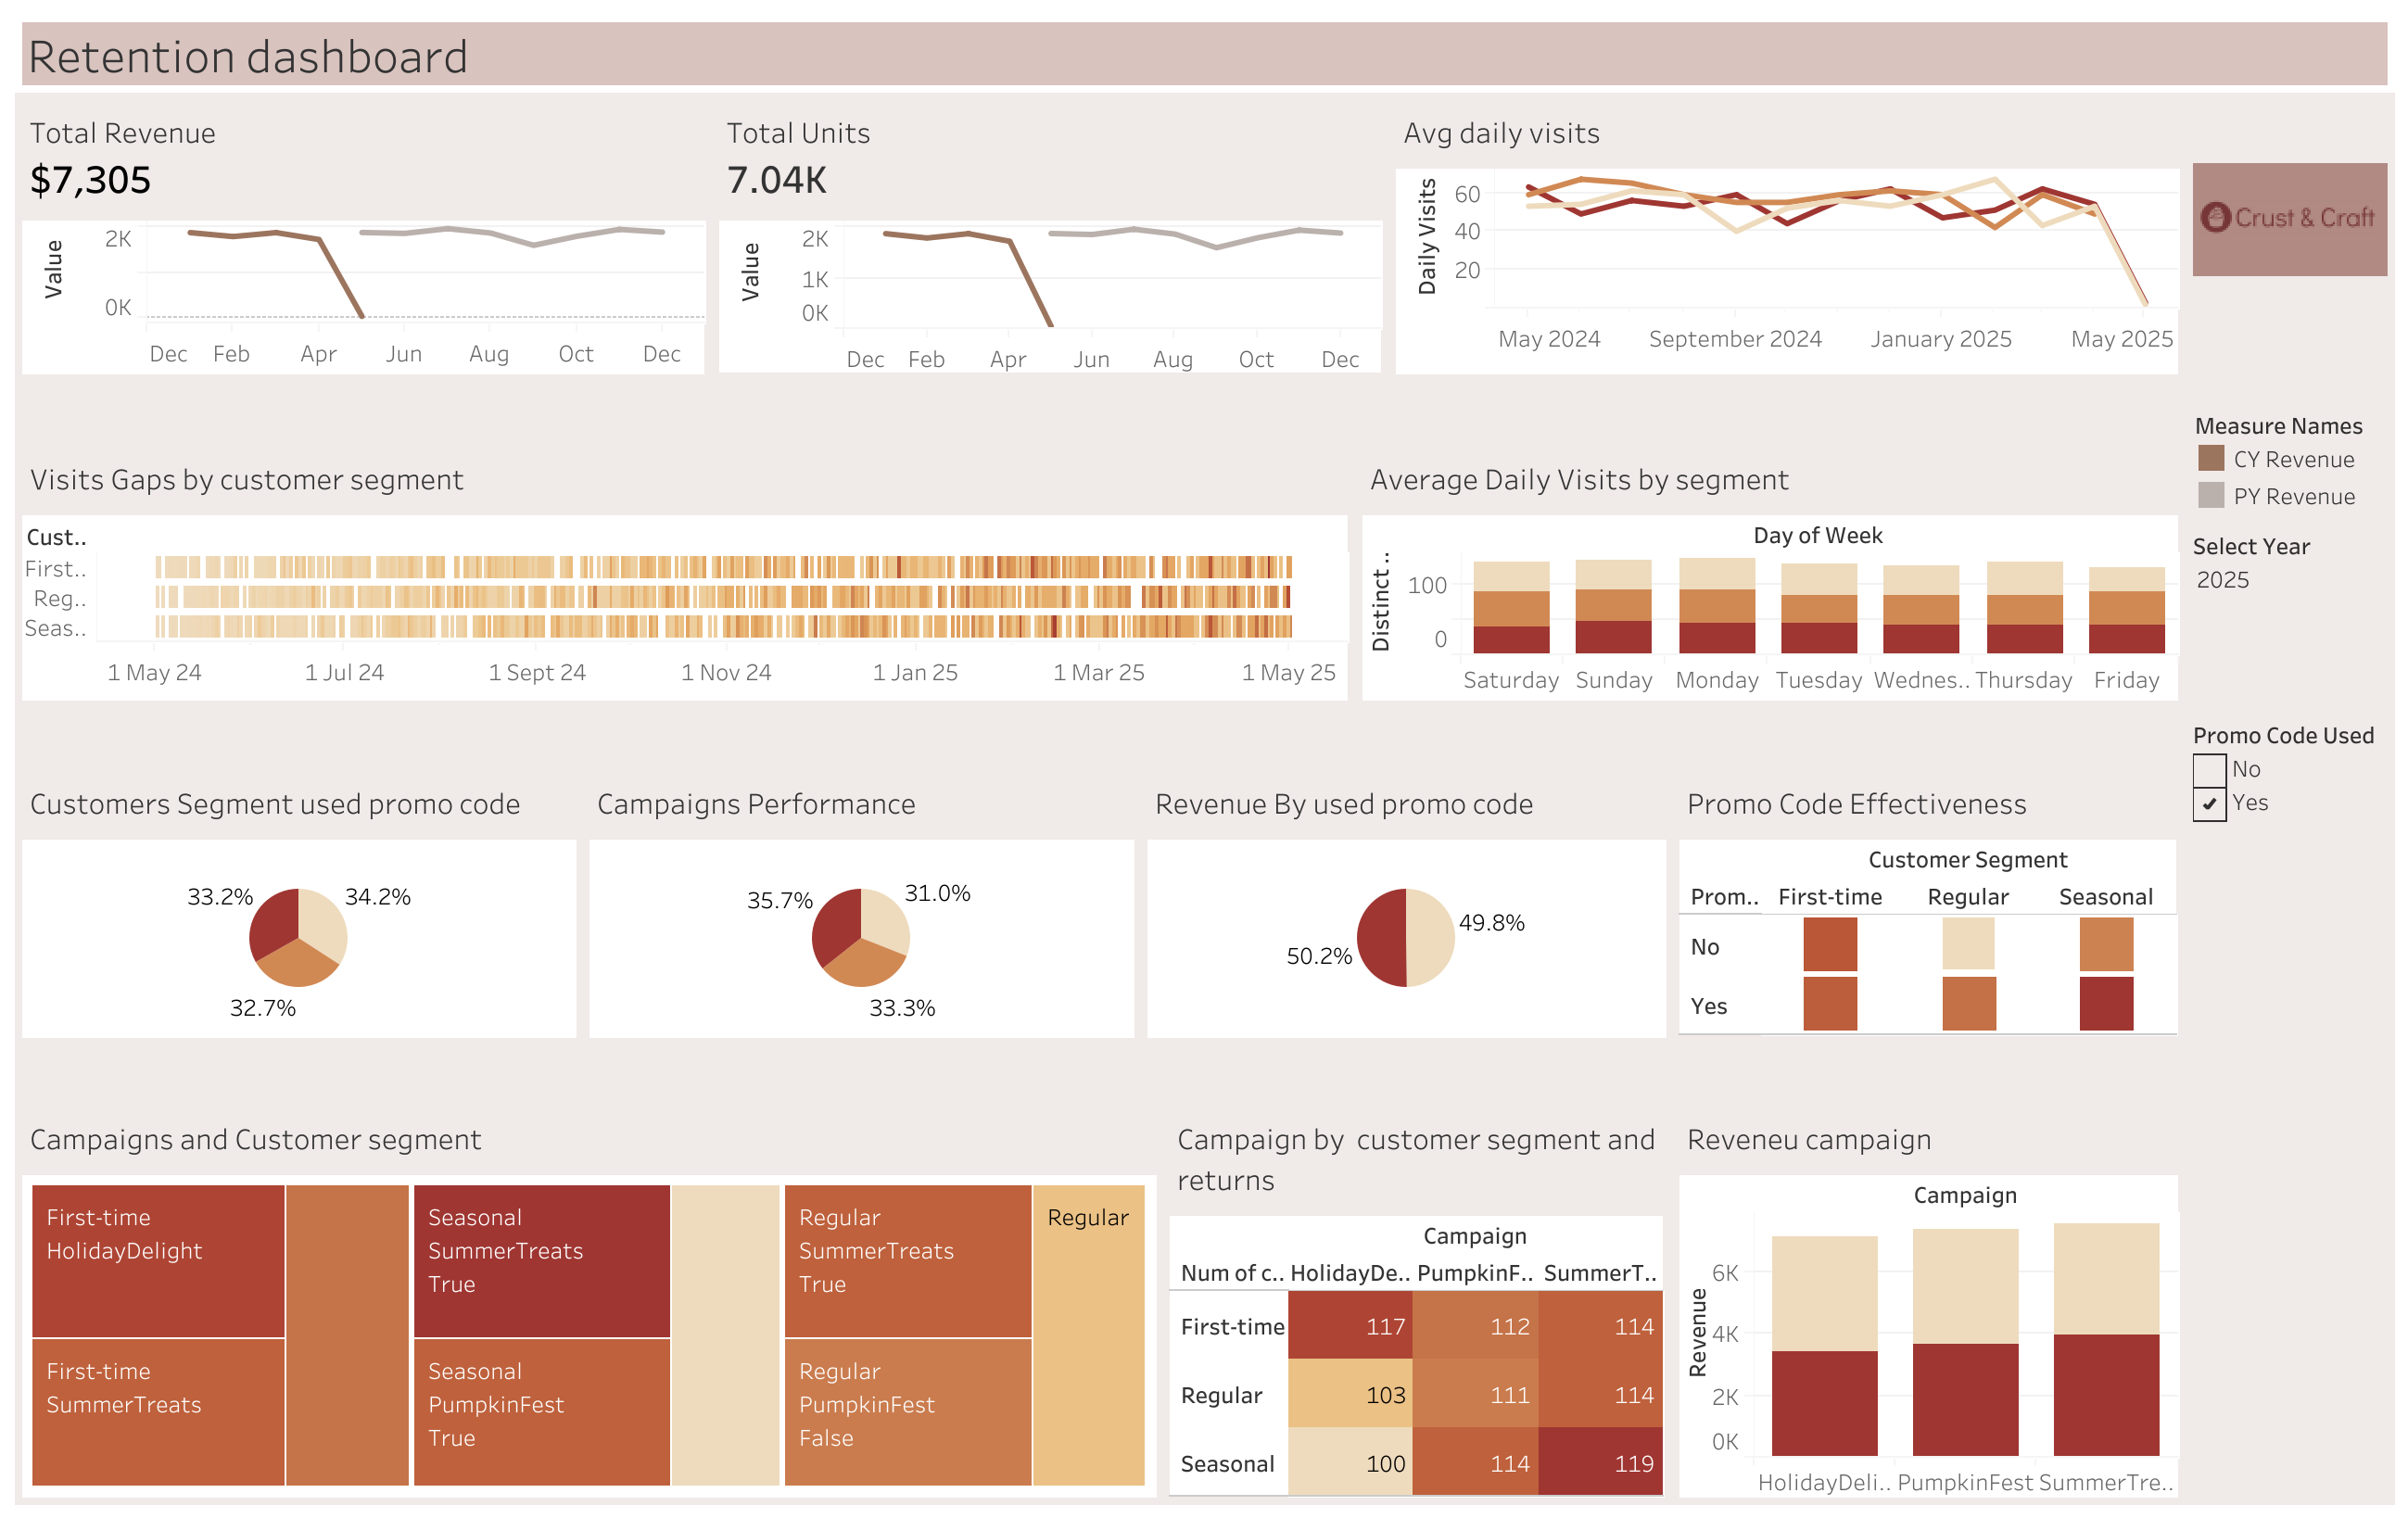

What the dashboard file says about the page in this screenshot:
{"tool":"tableau","page":{"name":"Retention dashboard","canvas":[1300,820],"ordinal":0},"visuals":[{"type":"title","box":[8,8,1284,42]},{"type":"worksheet","title":"Total Revenue","mark":"Line","cols":["Date"],"box":[8,50,376.1,156.4]},{"type":"worksheet","title":"Total Units","mark":"Automatic","cols":["Date"],"box":[384.1,50,364.6,156.4]},{"type":"worksheet","title":"Avg daily visits","mark":"Automatic","rows":["Calculation_5520005778828759044"],"cols":["Date"],"box":[748.7,50,430.3,156.4]},{"type":"blank","box":[1179,50,113,32]},{"type":"image","param":"Image/crust--craft-high-resolution-logo.png","box":[1179,82,113,73]},{"type":"blank","box":[1179,155,113,59]},{"type":"blank","box":[8,206.4,740.7,30.7]},{"type":"blank","box":[748.7,206.4,430.3,30.7]},{"type":"legend","title":"Total Revenue","param":"[federated.1iz11yq12yq1tu1h05c7c18dl4ut].[:Measure Names]","box":[1179,214,113,66]},{"type":"worksheet","title":"Visit Gaps","mark":"Automatic","rows":["Customer_Segment"],"cols":["Date"],"box":[8,237,723,144.7]},{"type":"worksheet","title":"avg daily visits","mark":"Automatic","rows":["Date"],"cols":["Calculation_5520005778868187151"],"box":[731,237,448,144.7]},{"type":"parameter","param":"[Parameters].[Parameter 1]","box":[1179,280,113,101.7]},{"type":"blank","box":[8,381.7,1171,30.3]},{"type":"filter","title":"Revenue By Campaign","param":"[federated.1iz11yq12yq1tu1h05c7c18dl4ut].[none:Promo_Code_Used:nk]","box":[1179,381.7,113,84]},{"type":"worksheet","title":"Total Customers use code by campaign and segement","mark":"Pie","box":[8,412,306.3,150.7]},{"type":"worksheet","title":"Revenue By Campaign","mark":"Pie","box":[314.3,412,301.1,150.7]},{"type":"worksheet","title":"Revenue by promo code","mark":"Pie","box":[615.4,412,286.5,150.7]},{"type":"worksheet","title":"Promo Code Effectiveness","mark":"Automatic","rows":["Promo_Code_Used"],"cols":["Customer_Segment"],"box":[901.8,412,277.2,150.7]},{"type":"blank","box":[1179,465.7,113,346.3]},{"type":"blank","box":[8,562.7,1171,30.3]},{"type":"worksheet","title":"Campaigns and Customer segment","mark":"Automatic","box":[8,593.1,619,218.9]},{"type":"worksheet","title":"Campaign by  customer segment and returns ","mark":"Square","rows":["Calculation_3495215532868300800"],"cols":["Campaign"],"box":[627,593.1,274.9,218.9]},{"type":"worksheet","title":"Reveneu campaign","mark":"Automatic","rows":["Revenue"],"cols":["Campaign"],"box":[901.8,593.1,277.2,218.9]}]}

Visuals, with their boxes in screenshot pixels (x1, y1, x2, y2), scaled from the page's 1300x820 canvas onto the 2408x1518 screenshot:
title: [left=15, top=15, right=2393, bottom=93]
"Total Revenue" worksheet (Line marks): [left=15, top=93, right=712, bottom=382]
"Total Units" worksheet: [left=712, top=93, right=1387, bottom=382]
"Avg daily visits" worksheet: [left=1387, top=93, right=2184, bottom=382]
blank: [left=2184, top=93, right=2393, bottom=152]
image: [left=2184, top=152, right=2393, bottom=287]
blank: [left=2184, top=287, right=2393, bottom=396]
blank: [left=15, top=382, right=1387, bottom=439]
blank: [left=1387, top=382, right=2184, bottom=439]
"Total Revenue" legend: [left=2184, top=396, right=2393, bottom=518]
"Visit Gaps" worksheet: [left=15, top=438, right=1354, bottom=706]
"avg daily visits" worksheet: [left=1354, top=438, right=2184, bottom=706]
parameter: [left=2184, top=518, right=2393, bottom=706]
blank: [left=15, top=706, right=2184, bottom=763]
"Revenue By Campaign" filter: [left=2184, top=706, right=2393, bottom=862]
"Total Customers use code by campaign and segement" worksheet (Pie marks): [left=15, top=763, right=582, bottom=1042]
"Revenue By Campaign" worksheet (Pie marks): [left=582, top=763, right=1140, bottom=1042]
"Revenue by promo code" worksheet (Pie marks): [left=1140, top=763, right=1670, bottom=1042]
"Promo Code Effectiveness" worksheet: [left=1670, top=763, right=2184, bottom=1042]
blank: [left=2184, top=862, right=2393, bottom=1503]
blank: [left=15, top=1042, right=2184, bottom=1098]
"Campaigns and Customer segment" worksheet: [left=15, top=1098, right=1161, bottom=1503]
"Campaign by  customer segment and returns " worksheet (Square marks): [left=1161, top=1098, right=1670, bottom=1503]
"Reveneu campaign" worksheet: [left=1670, top=1098, right=2184, bottom=1503]
